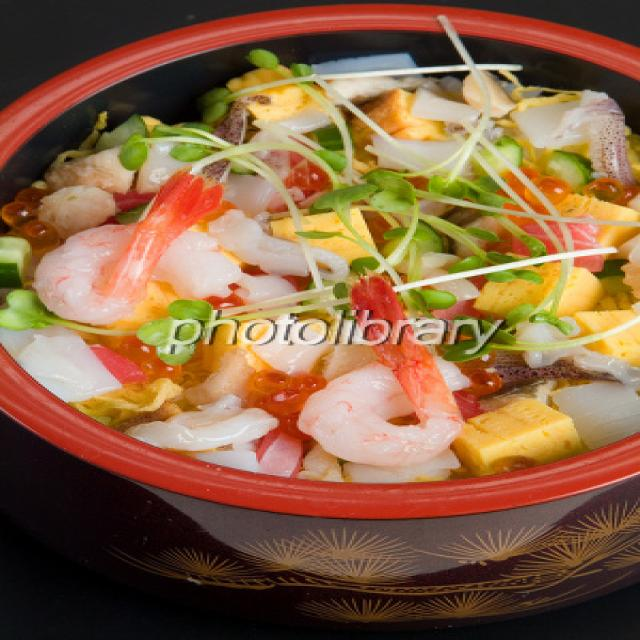寿司卷物: (0, 0, 640, 602)
